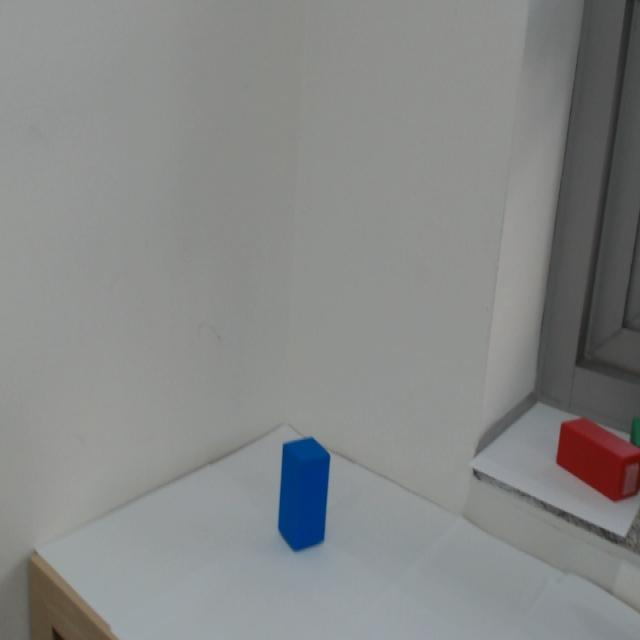cube: (273, 423, 342, 571)
